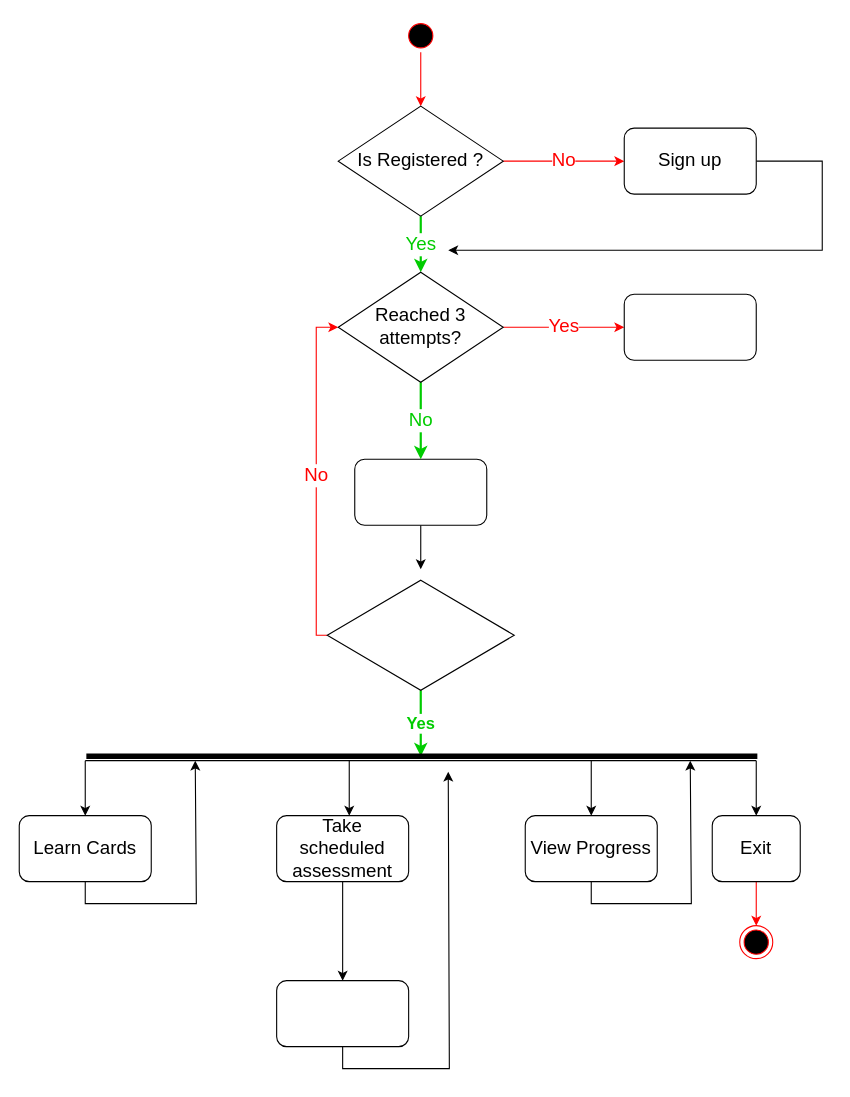
This 850x1097 diagram has some shape labels left out. Each missing label, with the centre of its shape:
"Lock account for 3 minutes" goes at point (689, 326).
"Login" goes at point (420, 491).
"Valid Credentials ?" goes at point (420, 634).
"View Score" goes at point (342, 1013).
